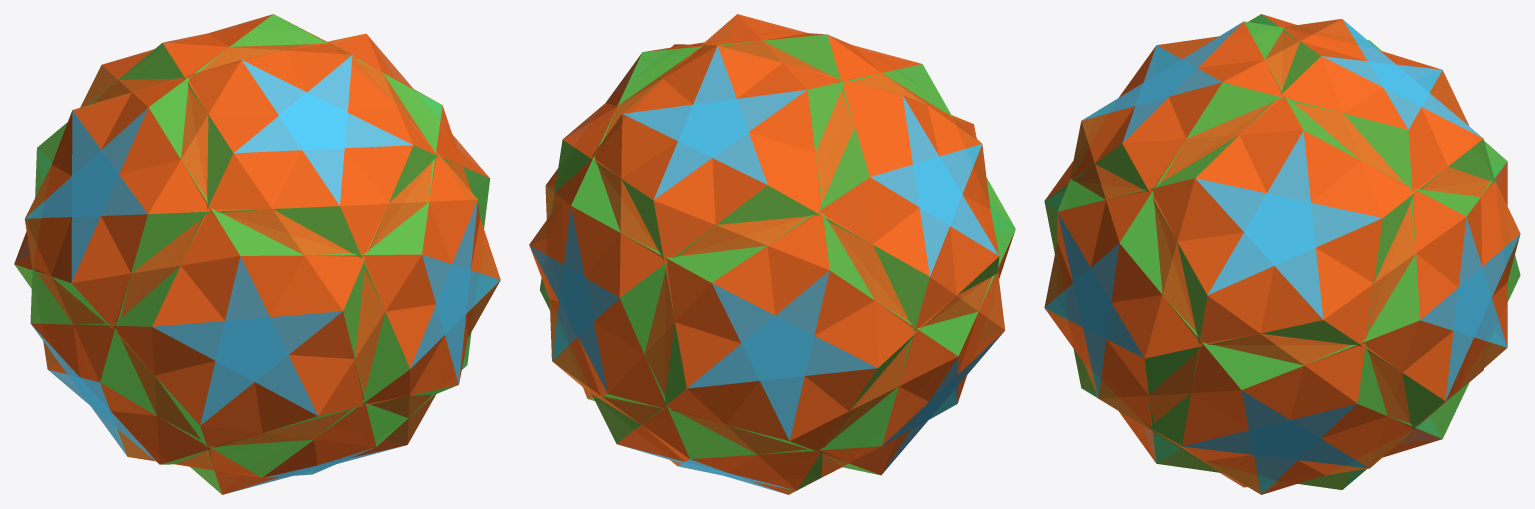
Rendered from SnubDodecadodecahedron.obj.
3 renders of one model, left to right at view 1: azimuth 30°, elevation 25°; view 2: azimuth 150°, elevation 25°; view 3: azimuth 270°, elevation 25°, orthographic.
Size of the model in its own units: 2.48 by 2.48 by 2.48.
